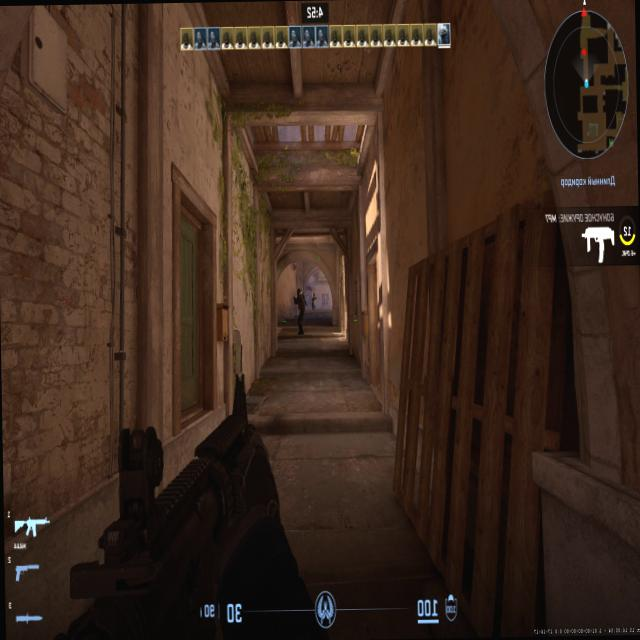CT: (296, 288, 302, 338), (310, 294, 314, 308)
CT_heat: (296, 289, 298, 296), (312, 292, 314, 296)
